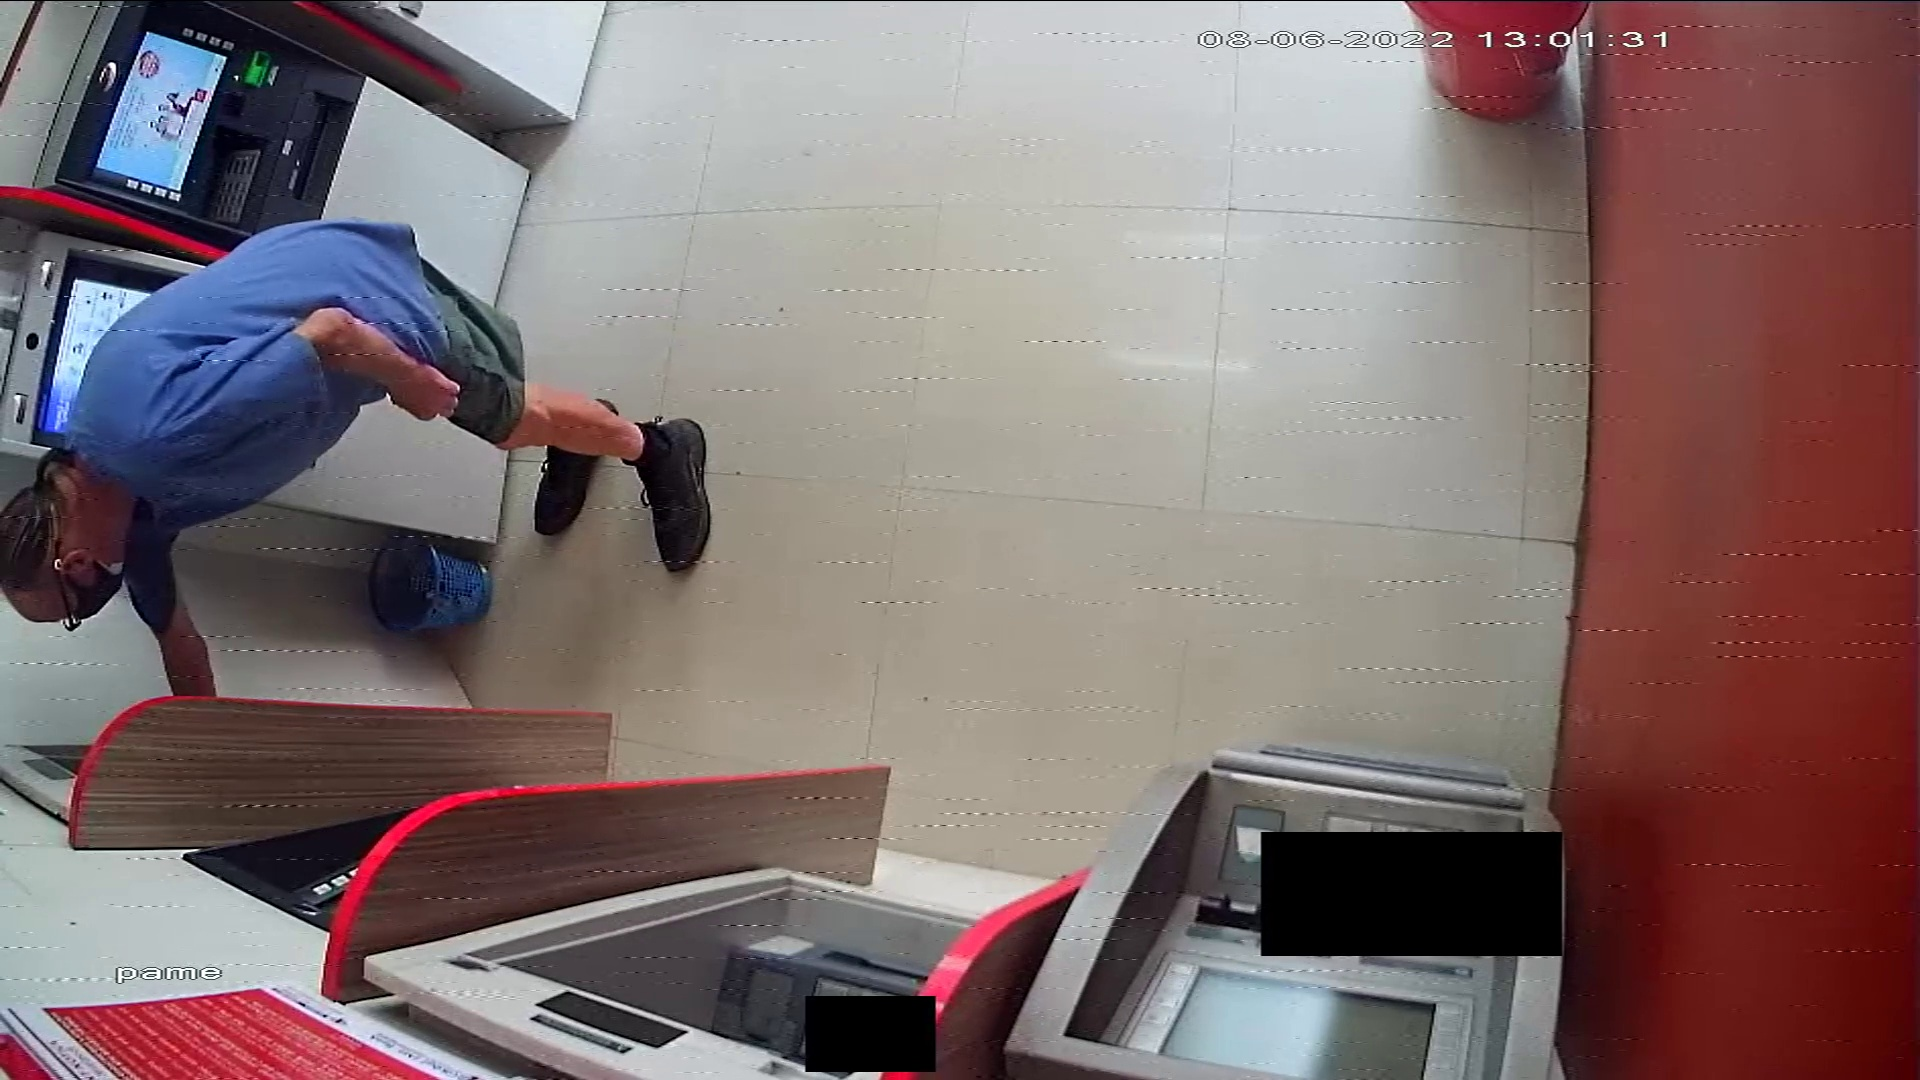person: (1, 215, 714, 695)
